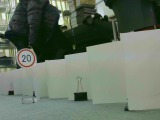speed_20: (15, 47, 38, 70)
